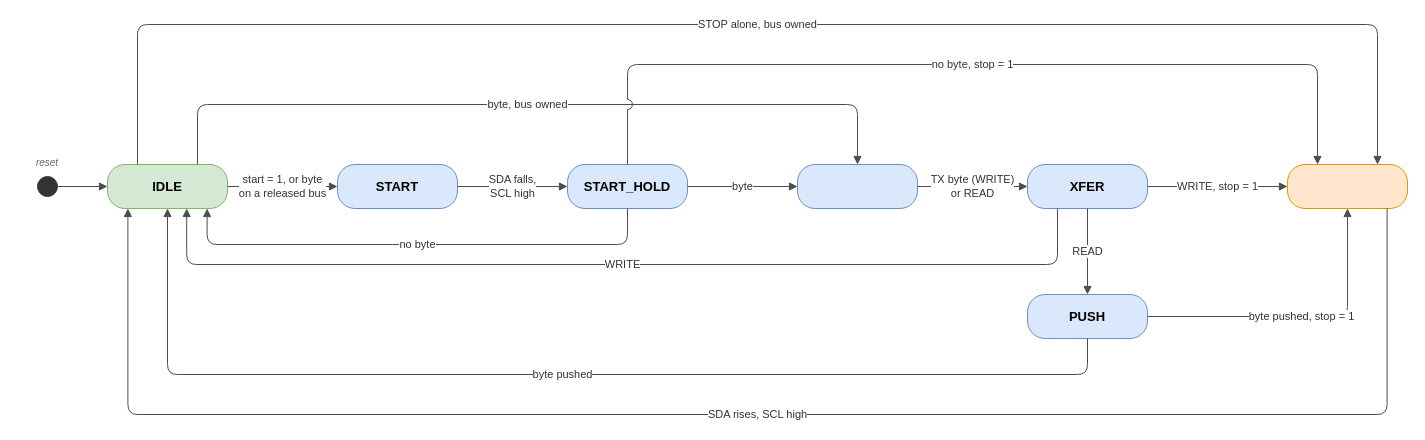
Some shapes in this 1425 by 440 pixel diagram are drawn without their labels. The shapes that lost their labels are listed below. From the top down, each one's centre as x and y in pixels, then its label:
At (857,186): "LOAD".
At (1347,186): "STOP".
